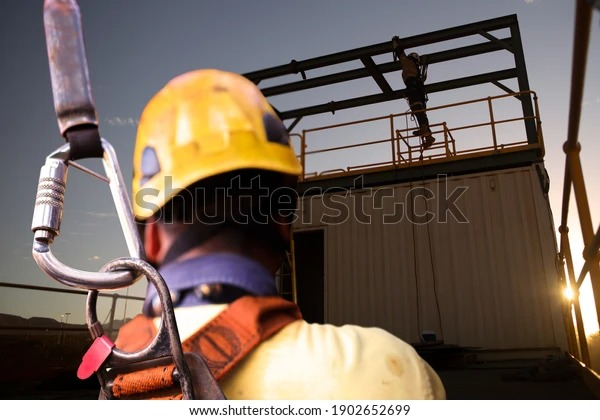helmet: (126, 69, 310, 215)
